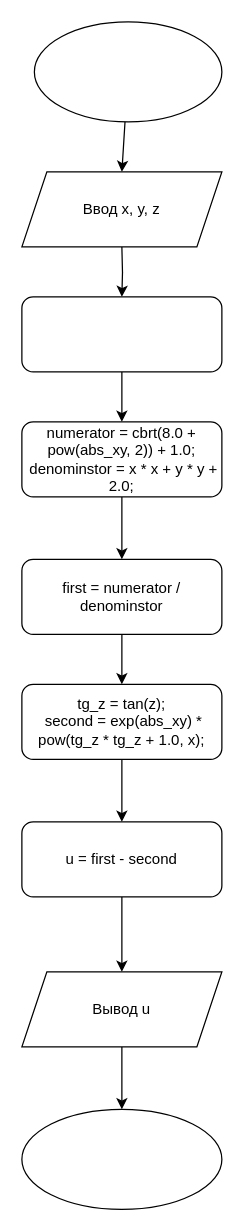
This 244x1231 diagram has some shape labels left out. The centre of each missing label's shape, as x and y in pixels:
"abs_xy = fabs(x - y);" goes at point (121, 334).
"Конец" goes at point (121, 1158).
"Начало" goes at point (127, 71).
